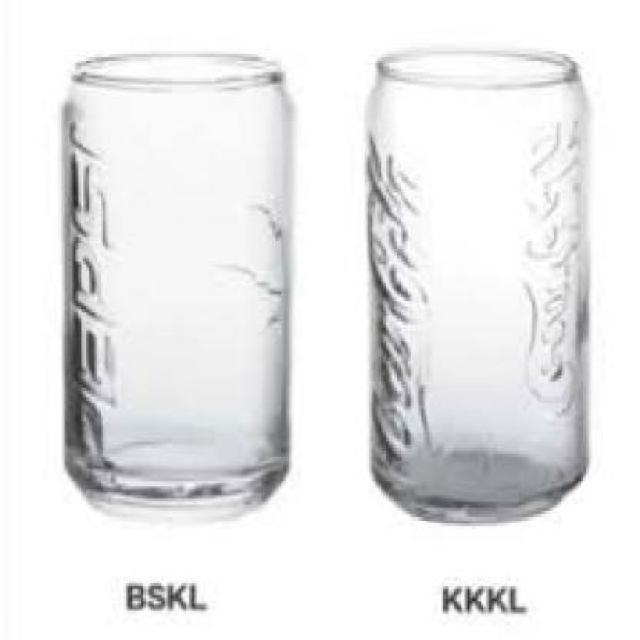kaca: (362, 48, 589, 520), (57, 54, 286, 511)
